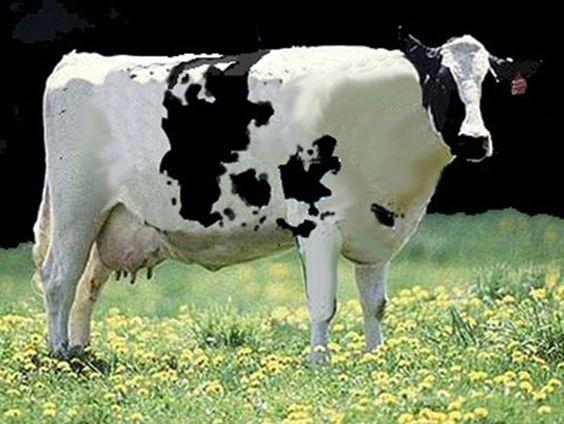cow: (34, 20, 559, 356)
